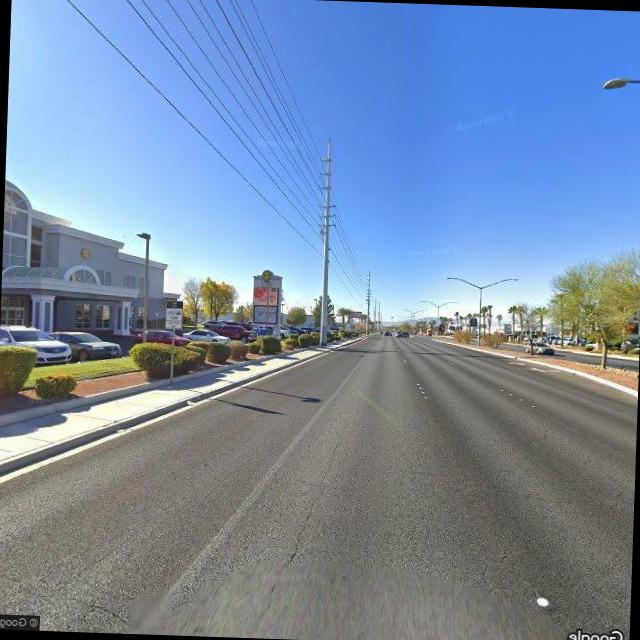crack: (288, 434, 346, 562)
